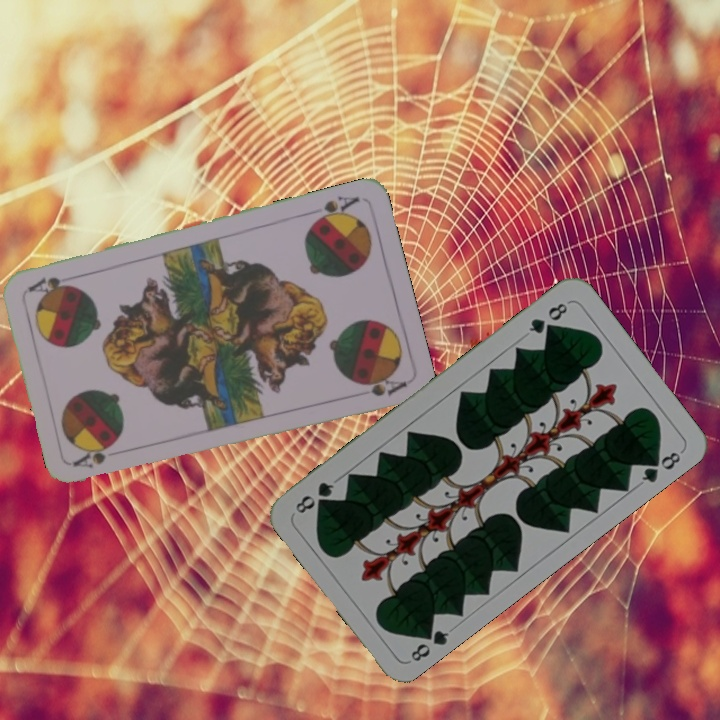G8: (406, 621, 452, 665), (524, 298, 571, 337)
SA: (308, 191, 362, 226), (70, 443, 115, 471)
